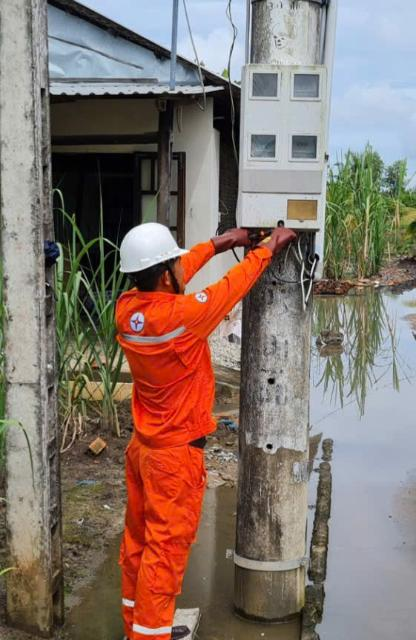gloves: (242, 220, 306, 259), (199, 220, 260, 249)
helmet: (106, 226, 191, 281)
shoes: (131, 617, 195, 640)
